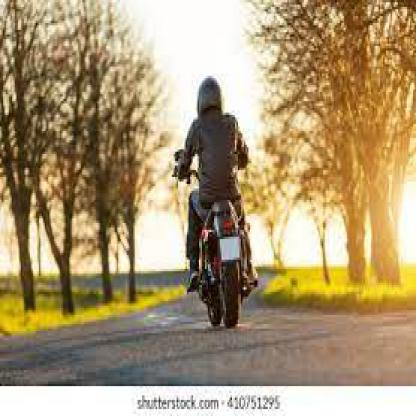bike: (167, 78, 260, 336)
